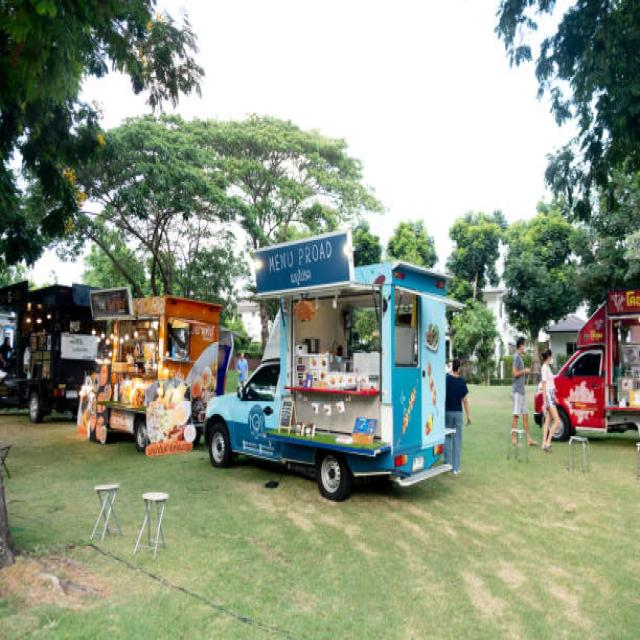Emperan: (203, 230, 469, 512), (73, 258, 226, 468)
